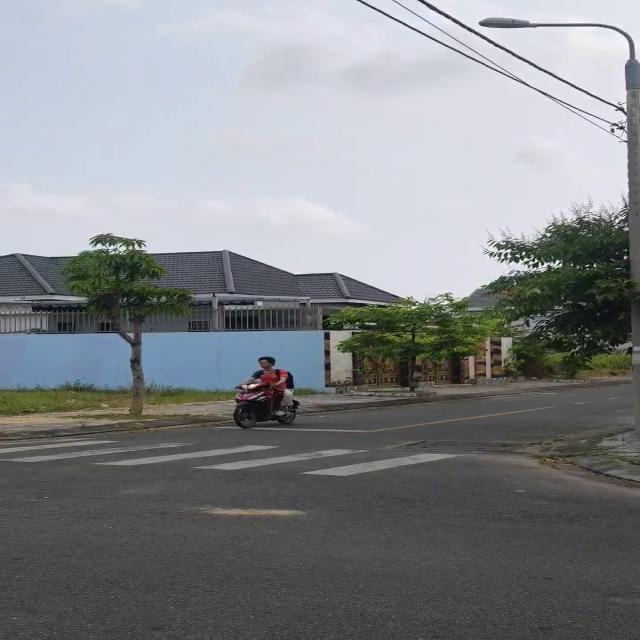no_helmet: (256, 353, 279, 371)
